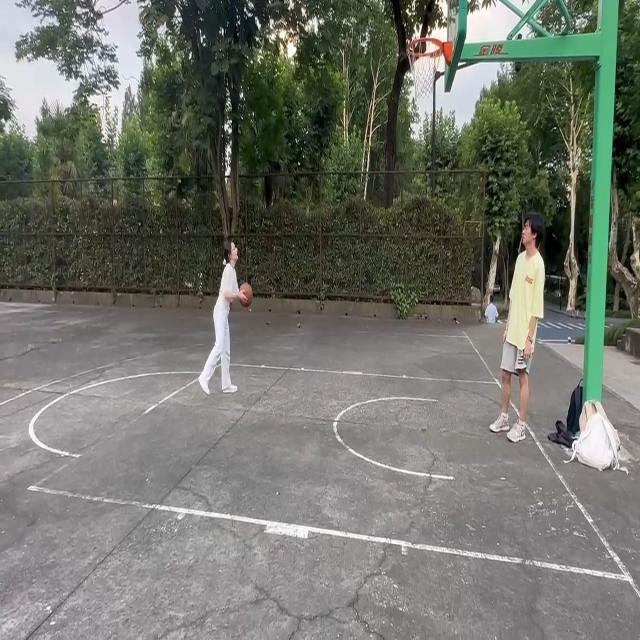basketball: (404, 35, 442, 101)
rim: (240, 282, 253, 307)
